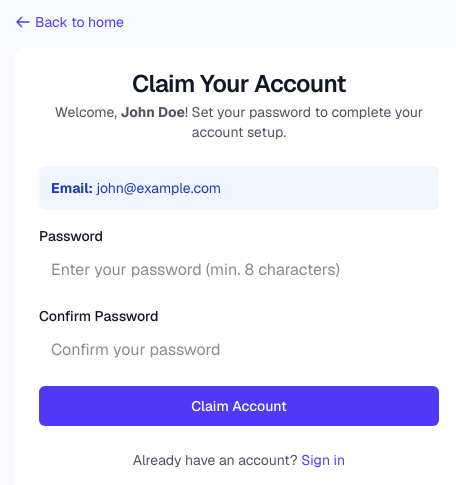
it: ClaimAccountPage › should disable form inputs while submitting
Type "password123" into the password field labelled "Password".
click(239, 270); type("password123")  # box [39,250,439,290]
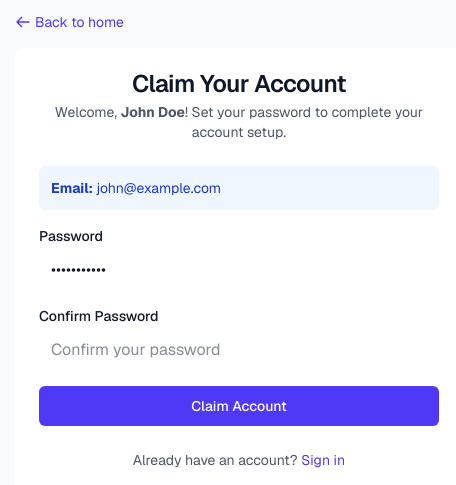
Type "password123" into the password field labelled "Confirm Password".
click(239, 350); type("password123")  # box [39,330,439,370]
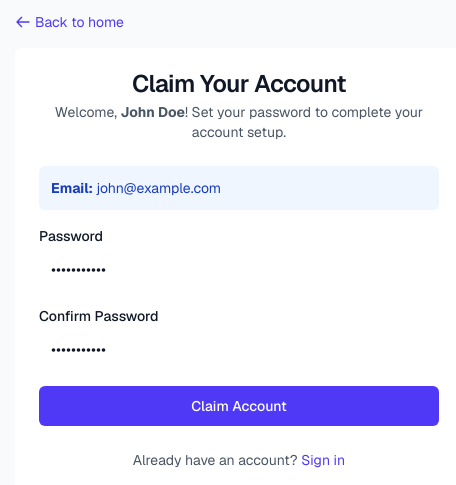
Click the button "Claim Account".
click(239, 406)  # box [39,386,439,426]
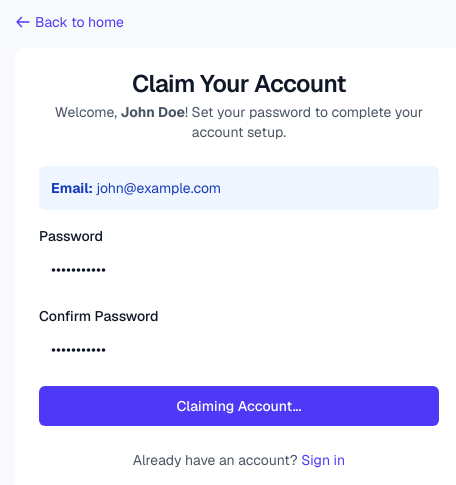
Check: the password field labelled "Password" is disabled, box [39,250,439,290]
Check: the button named "Claim Account" is disabled, box [39,386,439,426]
